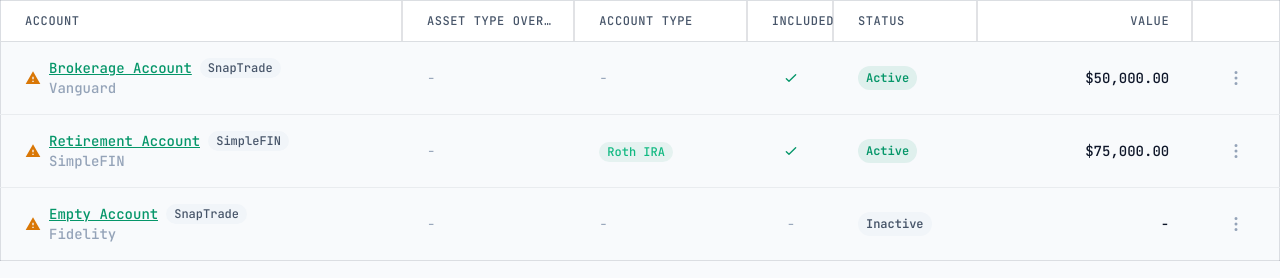
Test: AccountList › sorting › shows sort indicator when sorted
Click the text "Account" at (52, 21), box [25, 13, 80, 29]
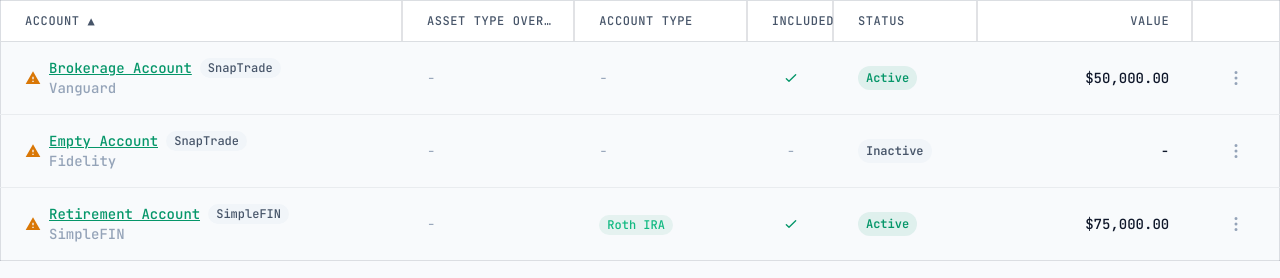
Now the text "Account ▲" is shown
Click the text "Account ▲" at (52, 21), box [25, 13, 95, 29]
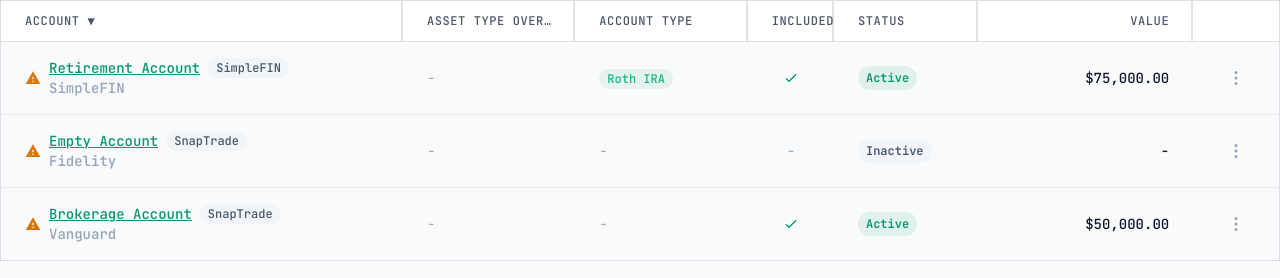
Now the text "Account ▼" is shown, box [25, 13, 95, 29]
